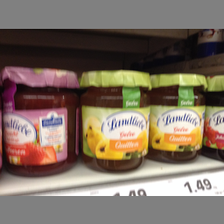jam: (1, 66, 78, 178), (80, 70, 151, 173), (151, 73, 207, 163)
